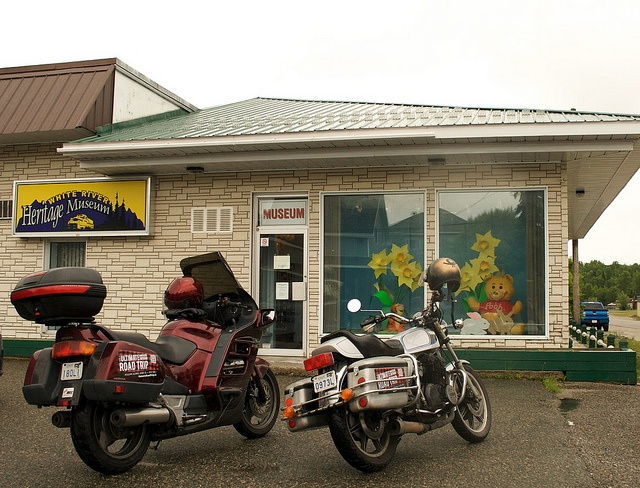non-vehicle: (14, 247, 278, 470), (288, 293, 490, 463)
